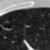node: (2, 35, 8, 40)
